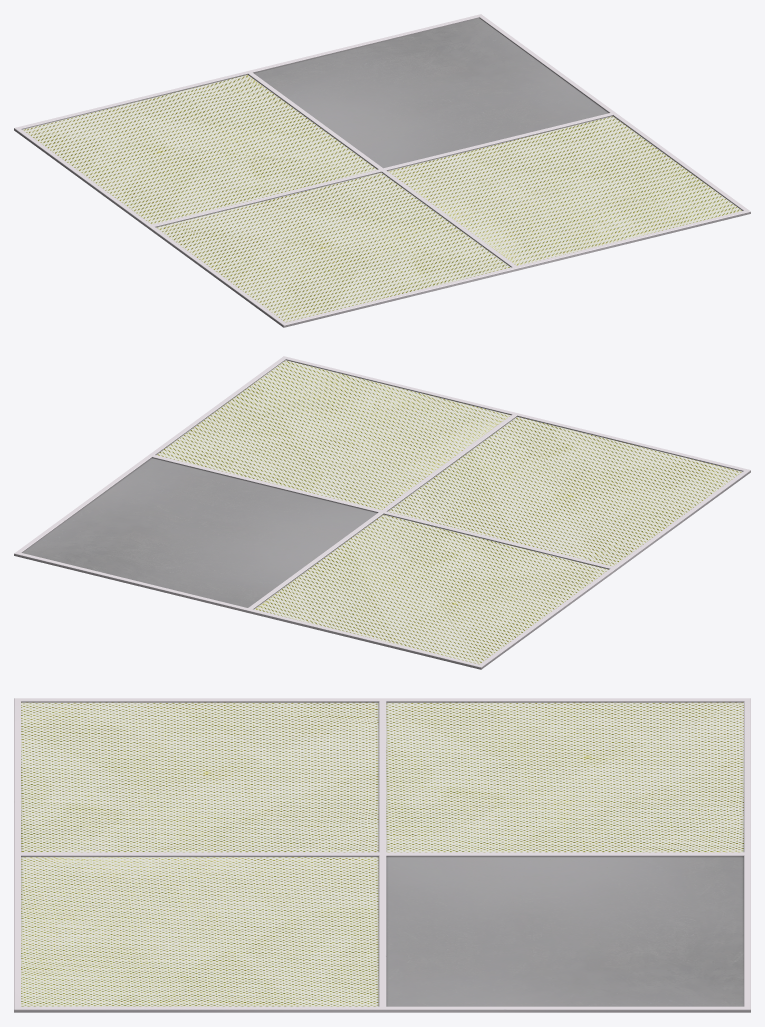
File: video_store_ceiling.obj
3 renders of one model, top to bottom at view 1: azimuth 30°, elevation 25°; view 2: azimuth 150°, elevation 25°; view 3: azimuth 270°, elevation 25°, orthographic. The views are drawn at different scales.
Visible parts, largest first — view 1: Mesh5_Group6_Group1_Model; view 2: Mesh5_Group6_Group1_Model; view 3: Mesh5_Group6_Group1_Model.
Part boxes in pixels (x1,y1,x2,y2): Mesh5_Group6_Group1_Model: [14, 14, 750, 327]; Mesh5_Group6_Group1_Model: [14, 356, 750, 669]; Mesh5_Group6_Group1_Model: [14, 698, 750, 1012].
Bounding box in the file's own units: 2 × 0.01 × 2.
Materials: 1 (1 with a texture image).
